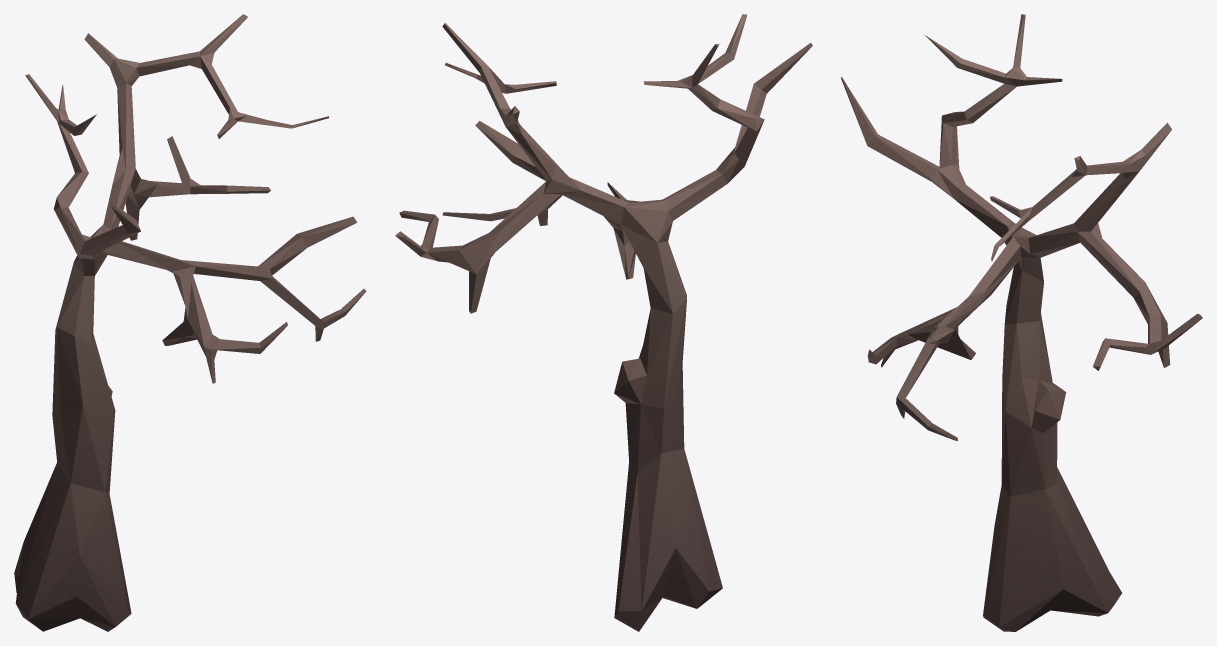
The model's file is tree6.glb.
3 views of the same model, side by side, from view 1: azimuth 30°, elevation 25°; view 2: azimuth 150°, elevation 25°; view 3: azimuth 270°, elevation 25° (orthographic). The views are drawn at different scales.
Parts seen in each view (by area): view 1: tree6; view 2: tree6; view 3: tree6.
Part boxes in pixels (x1=…): tree6: x1=14, y1=14, x2=366, y2=631; tree6: x1=395, y1=14, x2=812, y2=631; tree6: x1=841, y1=14, x2=1202, y2=631.
Size of the model in its own units: 2.38 by 4.12 by 2.32.
1 material, 1 textured.
